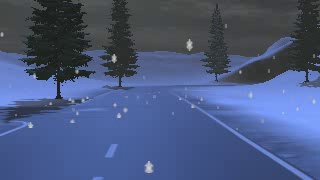Lane: (0, 84, 309, 179)
